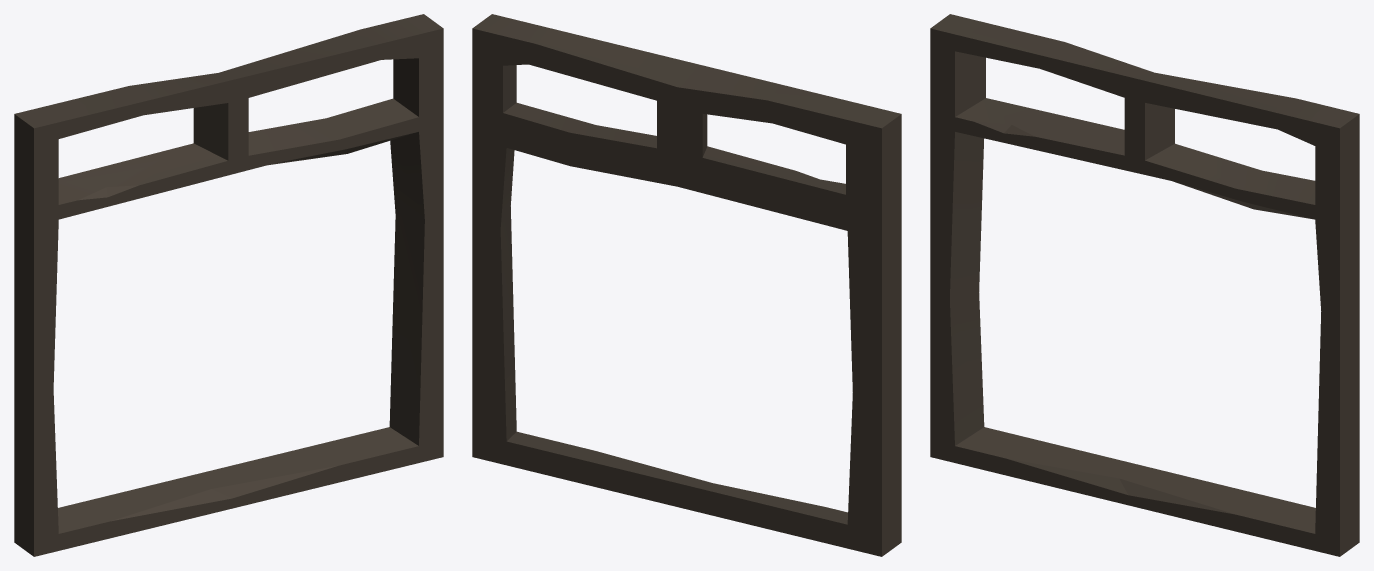
The model's file is SM_Env_Wall_Wood_Beams_01.FBX.
3 renders of one model, left to right at view 1: azimuth 30°, elevation 25°; view 2: azimuth 150°, elevation 25°; view 3: azimuth 330°, elevation 25°, orthographic.
Visible parts, largest first — view 1: SM_Env_Wall_Wood_Beams_01; view 2: SM_Env_Wall_Wood_Beams_01; view 3: SM_Env_Wall_Wood_Beams_01.
Boxes of the visible parts, bbox=[...] form: SM_Env_Wall_Wood_Beams_01: bbox=[14, 14, 443, 556]; SM_Env_Wall_Wood_Beams_01: bbox=[472, 14, 901, 556]; SM_Env_Wall_Wood_Beams_01: bbox=[930, 14, 1359, 556].
Size of what is drawn, in the model's own units: 500 by 41.84 by 500.
